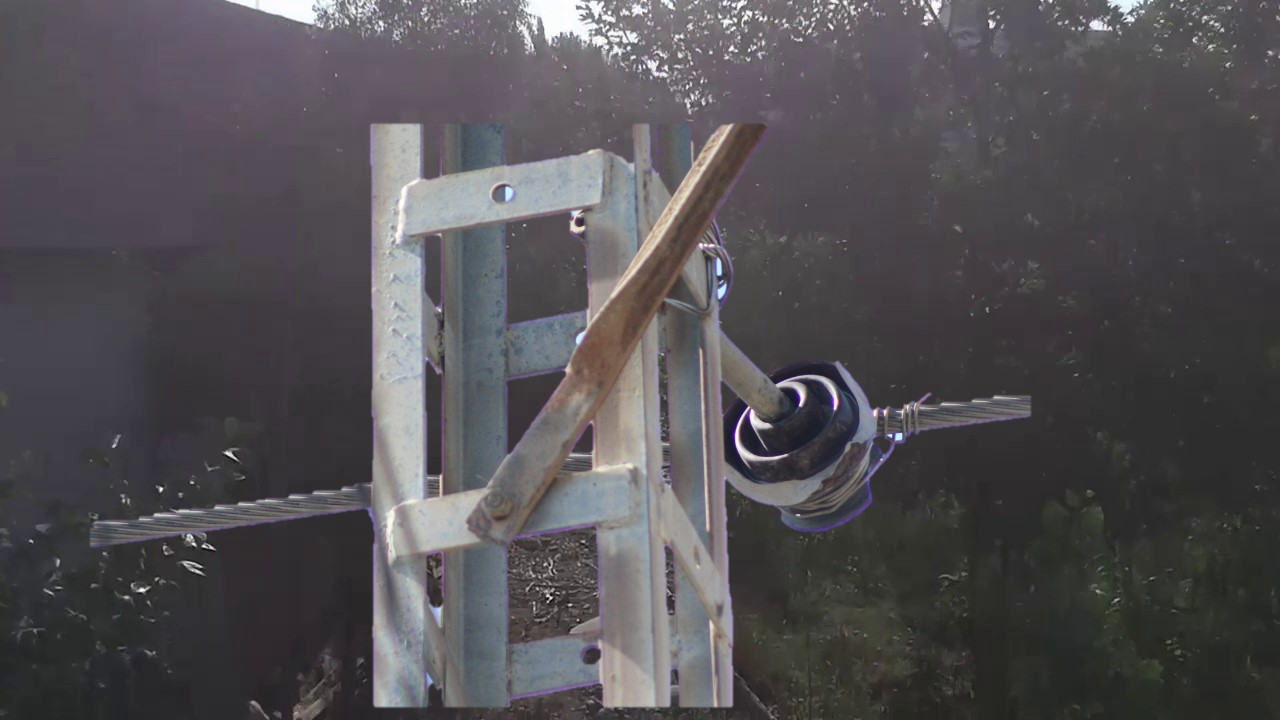defect_pin: (714, 352, 884, 547)
